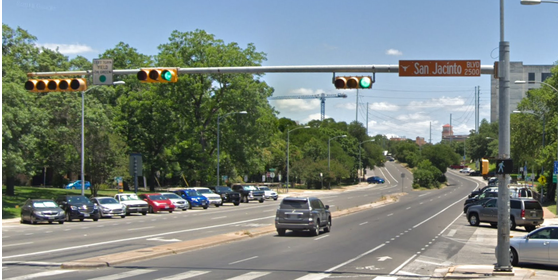left turn yield on green sign: (91, 56, 113, 85)
